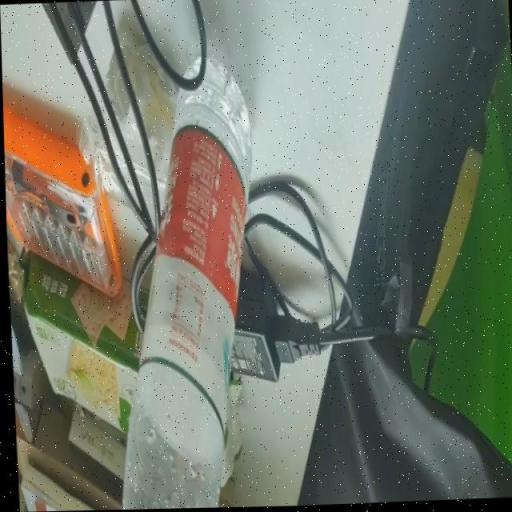plastic: (118, 58, 250, 510)
